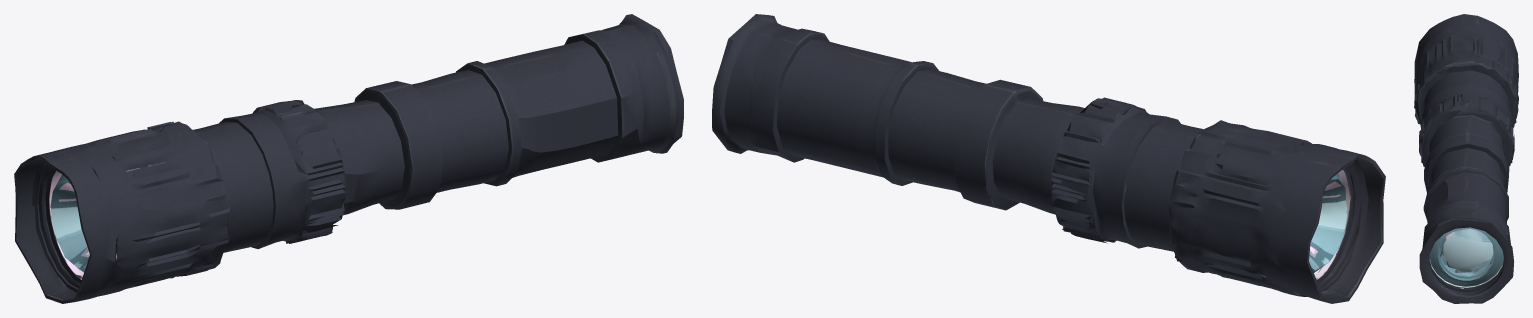
File: flashlight_v2.glb
The picture shows the model from 3 angles, left to right: view 1: azimuth 30°, elevation 25°; view 2: azimuth 150°, elevation 25°; view 3: azimuth 270°, elevation 25°; orthographic projection. The views are drawn at different scales.
Parts seen in each view (by area): view 1: Mesh_0; view 2: Mesh_0; view 3: Mesh_0.
Boxes of the visible parts, x1,y1,x2,y2 form: Mesh_0: [14, 14, 683, 303]; Mesh_0: [712, 14, 1385, 303]; Mesh_0: [1414, 14, 1518, 303].
Bounding box in the file's own units: 1.89 × 0.4152 × 0.4163.
Materials: 1 (1 with a texture image).
